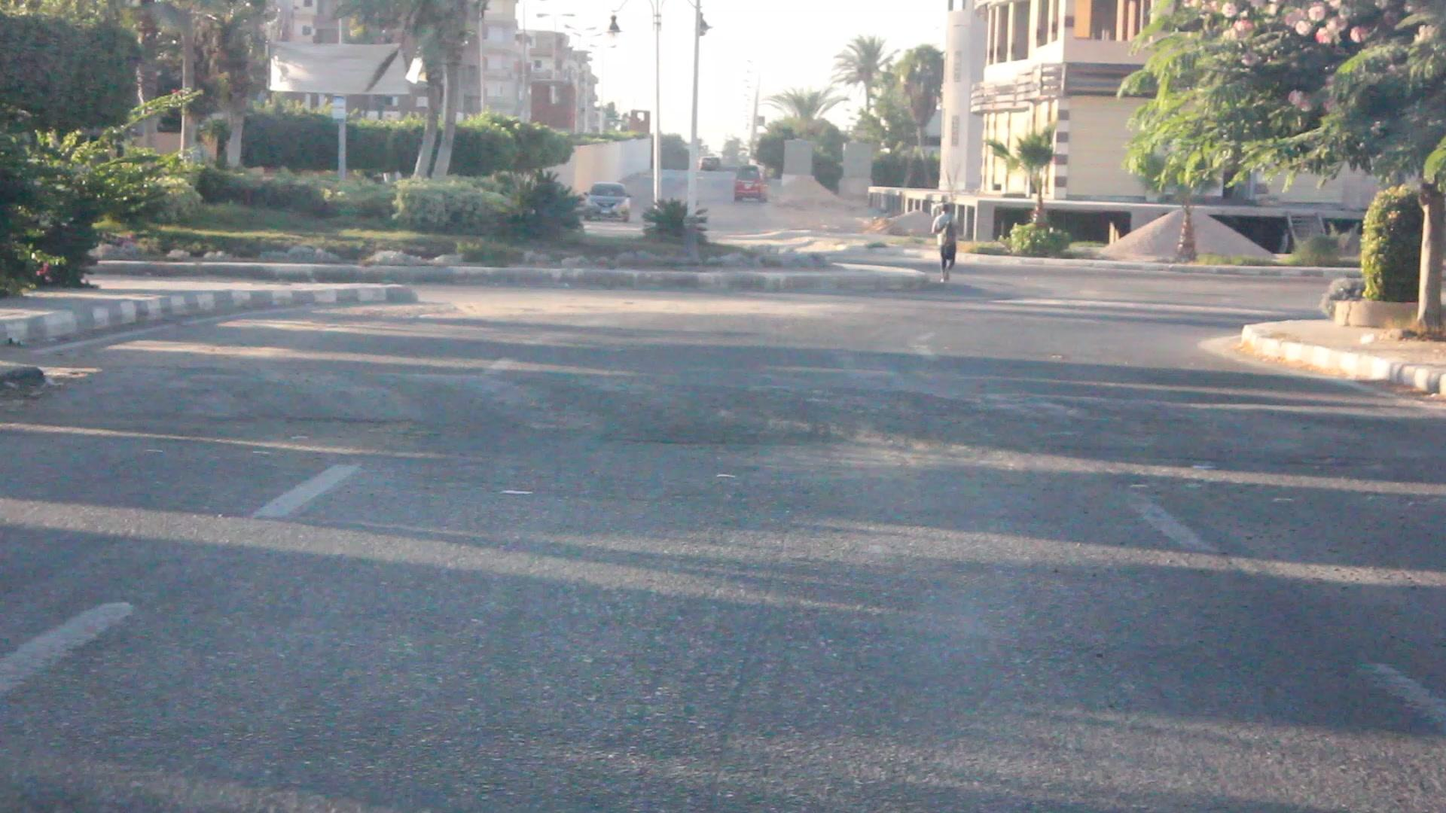Bump: (81, 359, 1446, 470)
